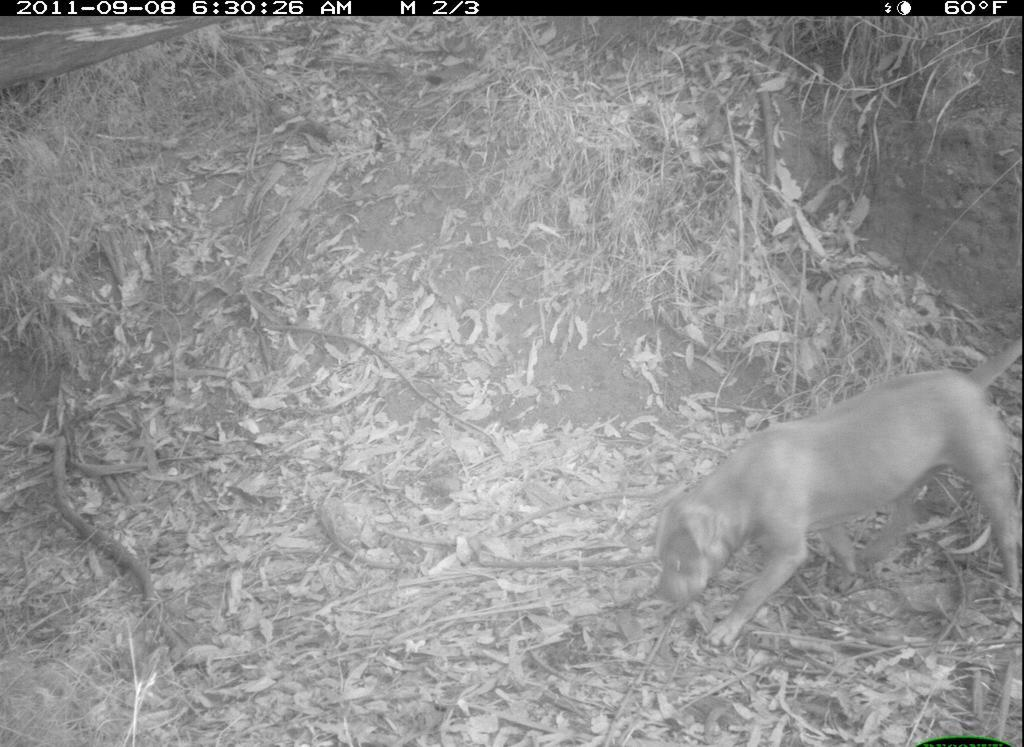dog: (633, 329, 1023, 673)
